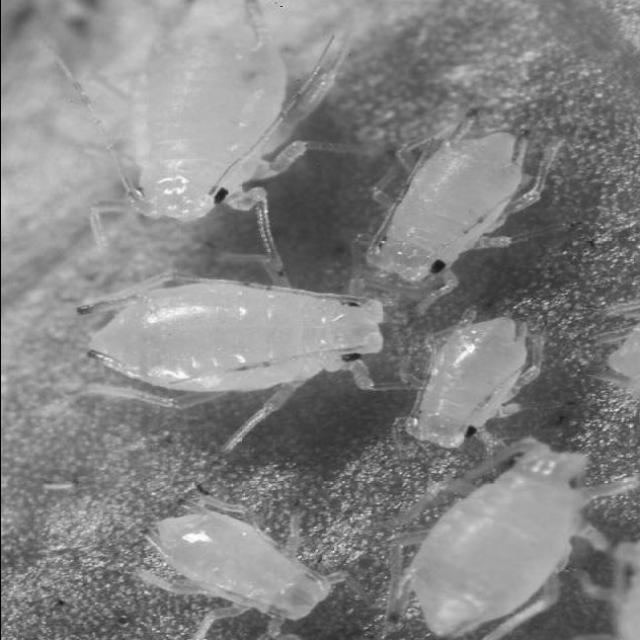Aphids: (49, 0, 358, 258), (51, 266, 402, 442), (358, 429, 640, 640), (356, 97, 594, 334), (116, 465, 354, 640), (383, 296, 566, 467)
